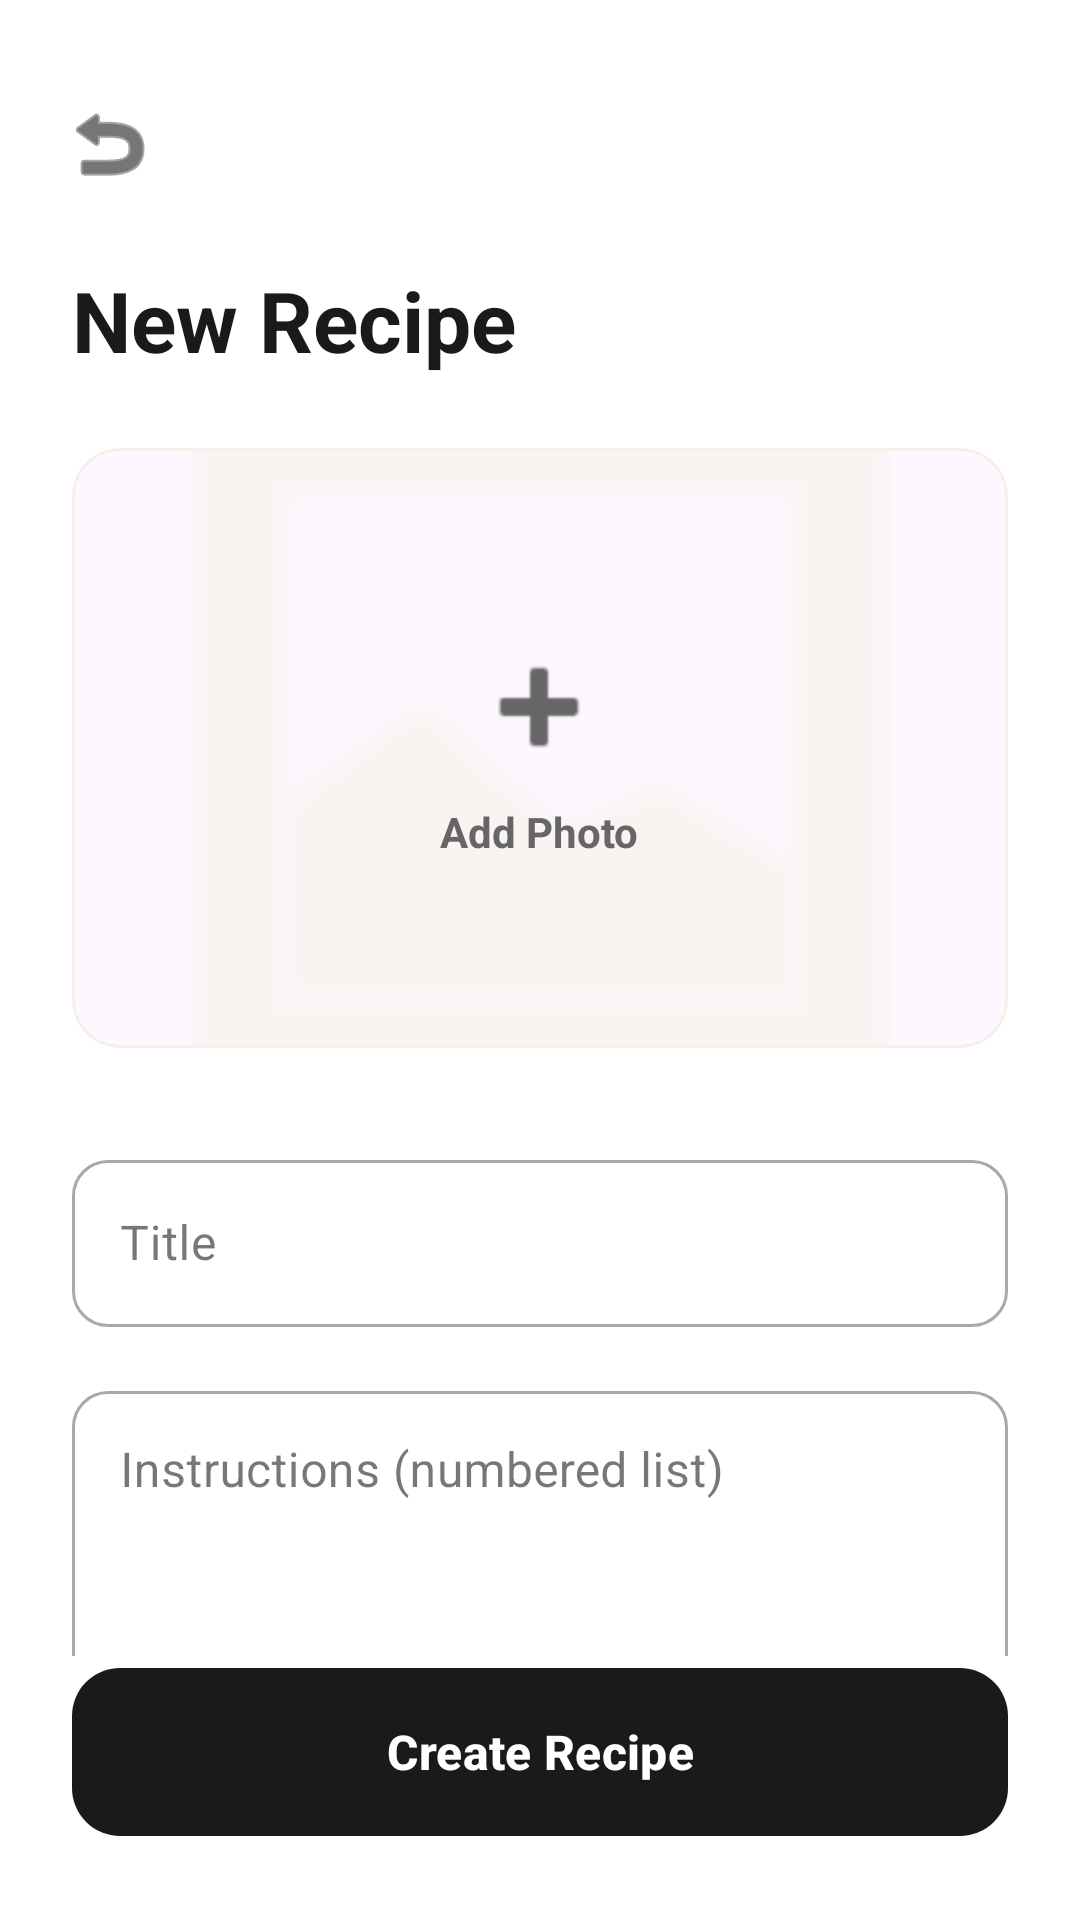

Where icons sit on this 1080w x 1920h app screen, as (x1, y1, x2, y2):
revert: (76, 113, 145, 176)
